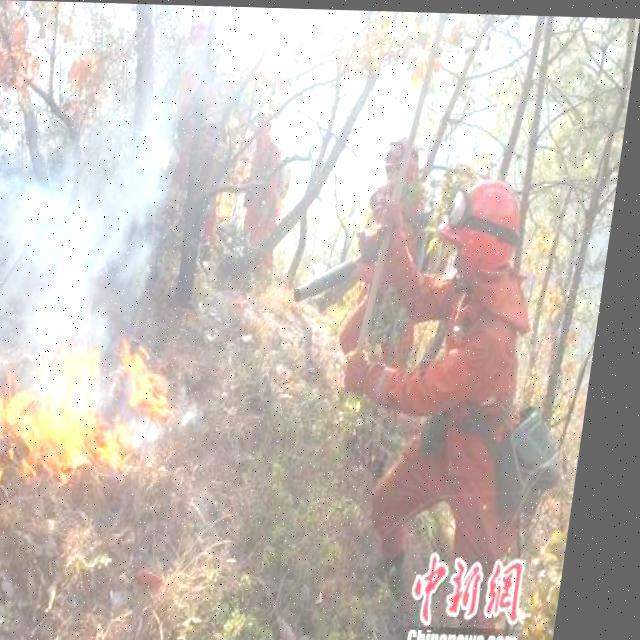Fire: (0, 326, 194, 552)
